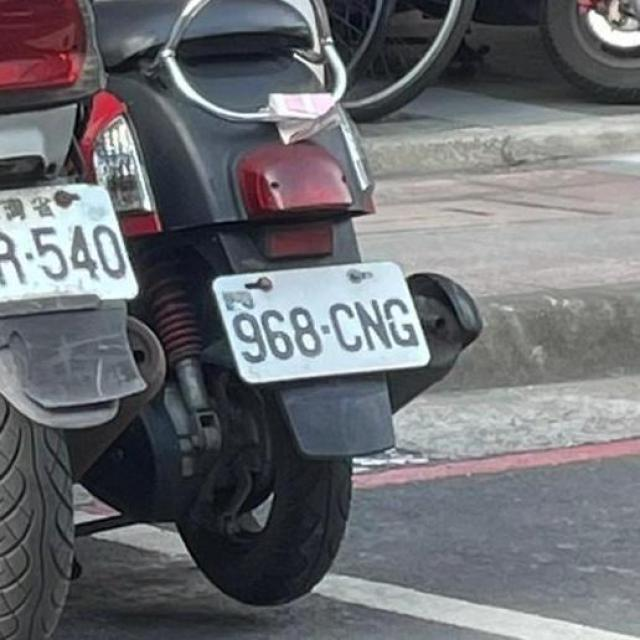W: (207, 250, 433, 394), (0, 158, 145, 328)
